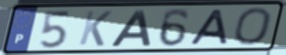5: (36, 9, 75, 49)
6: (159, 7, 192, 48)
A: (108, 9, 152, 48), (188, 9, 231, 46)
K: (77, 9, 114, 48)
O: (231, 6, 274, 47)
